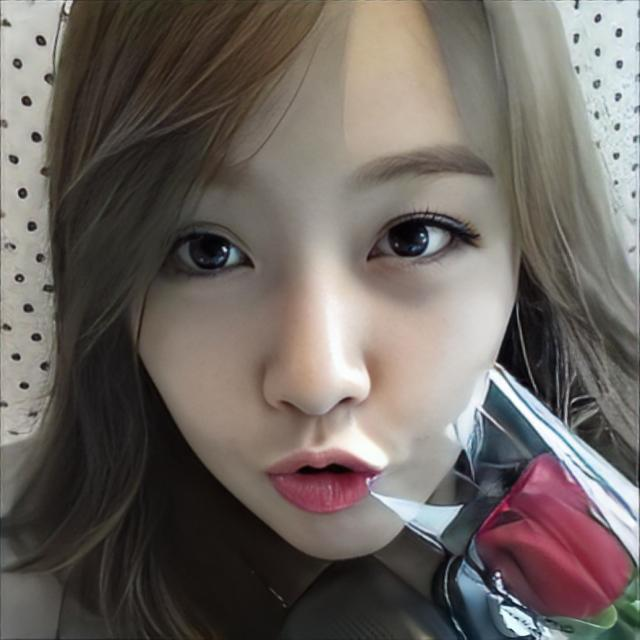neutral: (131, 0, 523, 557)
